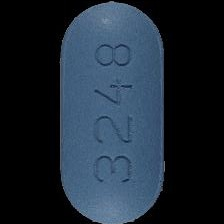21695-832: (0, 0, 224, 224)
